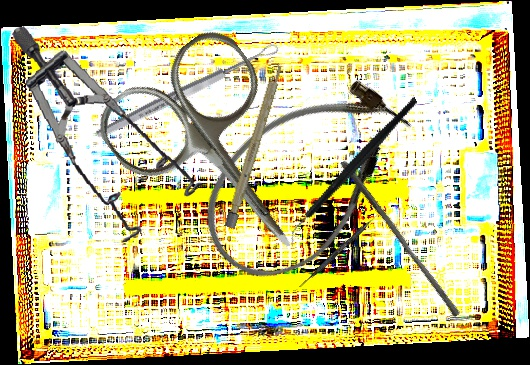Cannula: (174, 49, 434, 307)
Chopper: (256, 95, 451, 249)
Iris Scissors: (87, 20, 353, 297)
Pusher: (333, 159, 467, 318)
Scalpel Handle: (224, 62, 285, 229)
Spatula Surgical: (298, 205, 386, 291)
Speculum: (9, 8, 211, 252)
Surgical Spoon: (93, 40, 282, 142)
